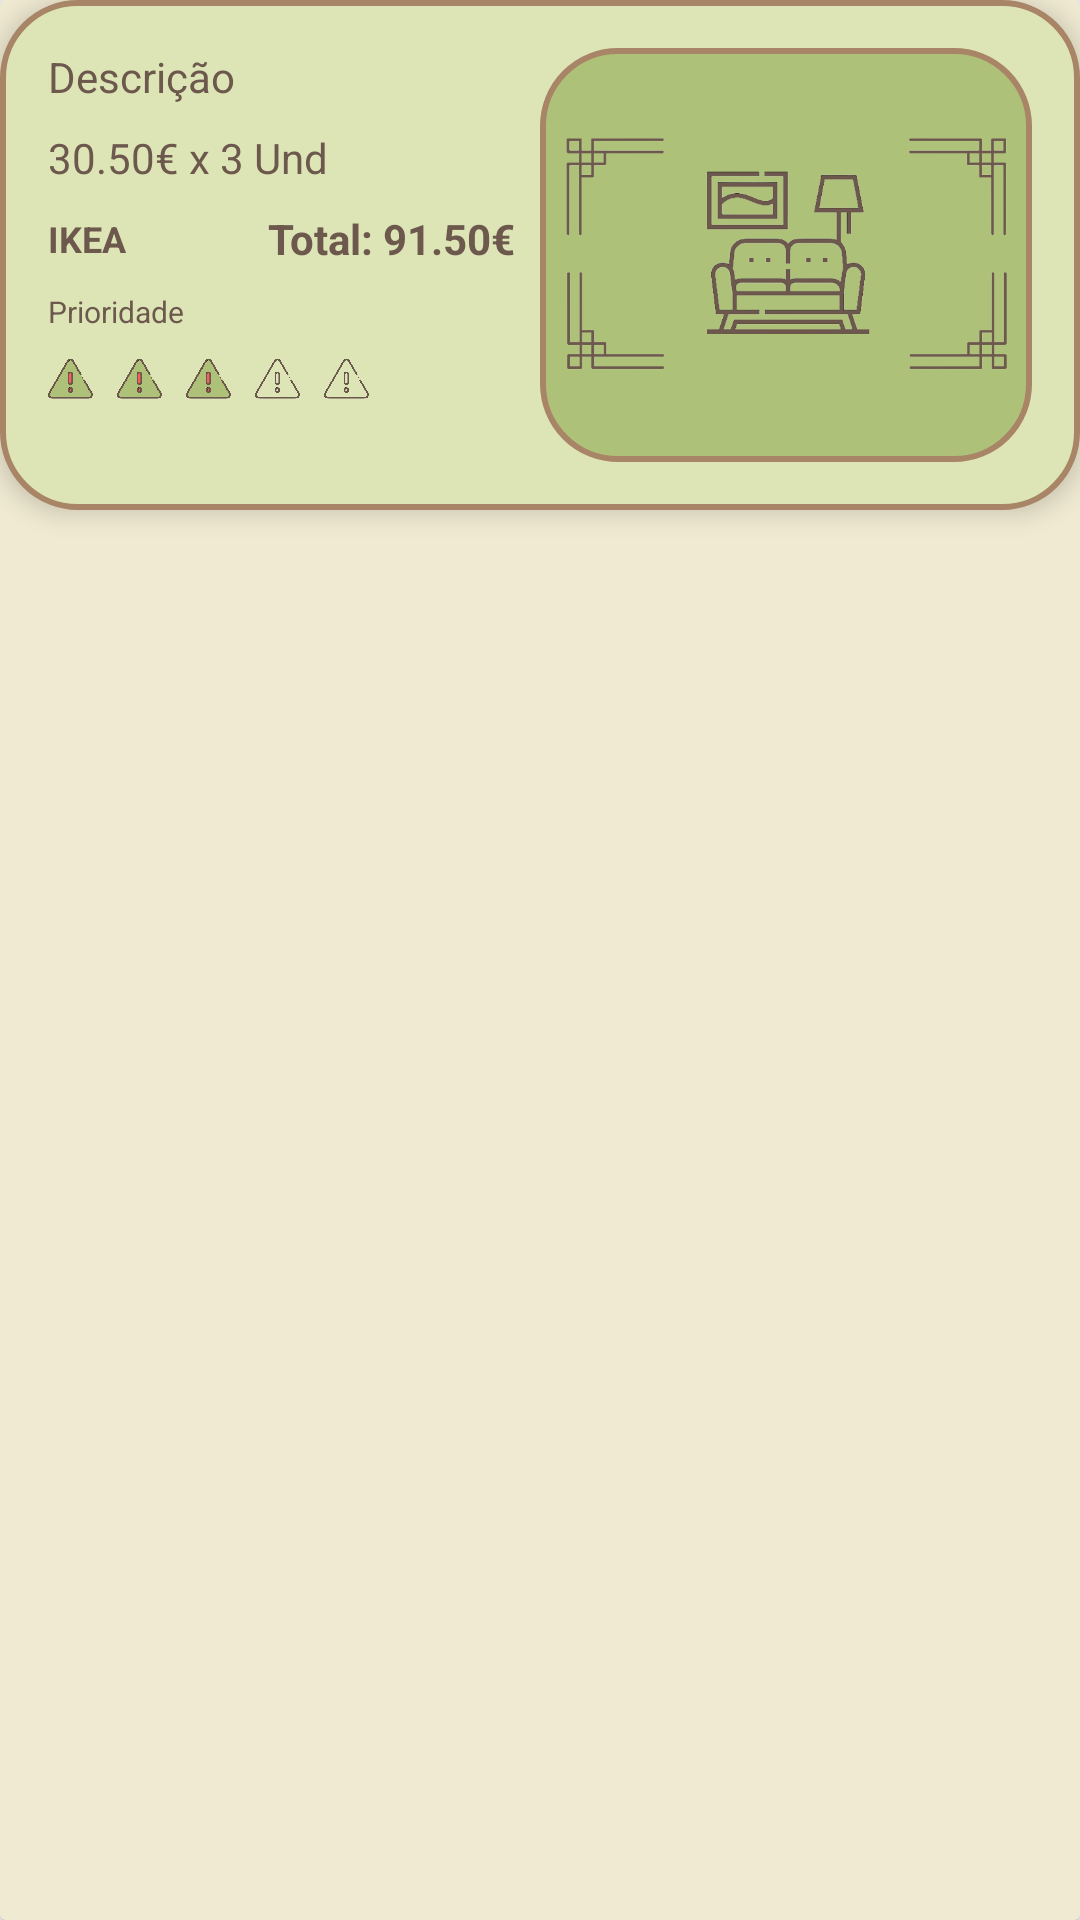

Locate icon controls on the screen. Image size 1080 × 1920, boxes as {"x1": x1, "y1": y1, "x2": x2, "y2": y2}.
alert off: {"x1": 255, "y1": 359, "x2": 300, "y2": 399}, {"x1": 324, "y1": 359, "x2": 369, "y2": 399}
alert on: {"x1": 48, "y1": 359, "x2": 93, "y2": 399}, {"x1": 117, "y1": 359, "x2": 162, "y2": 399}, {"x1": 186, "y1": 359, "x2": 231, "y2": 399}
